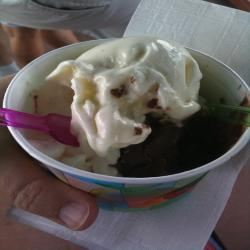icecream: (29, 39, 243, 188)
